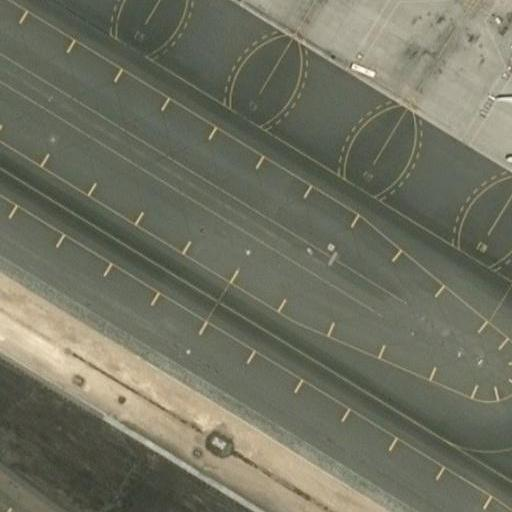Aircraft: (493, 45, 512, 179)
